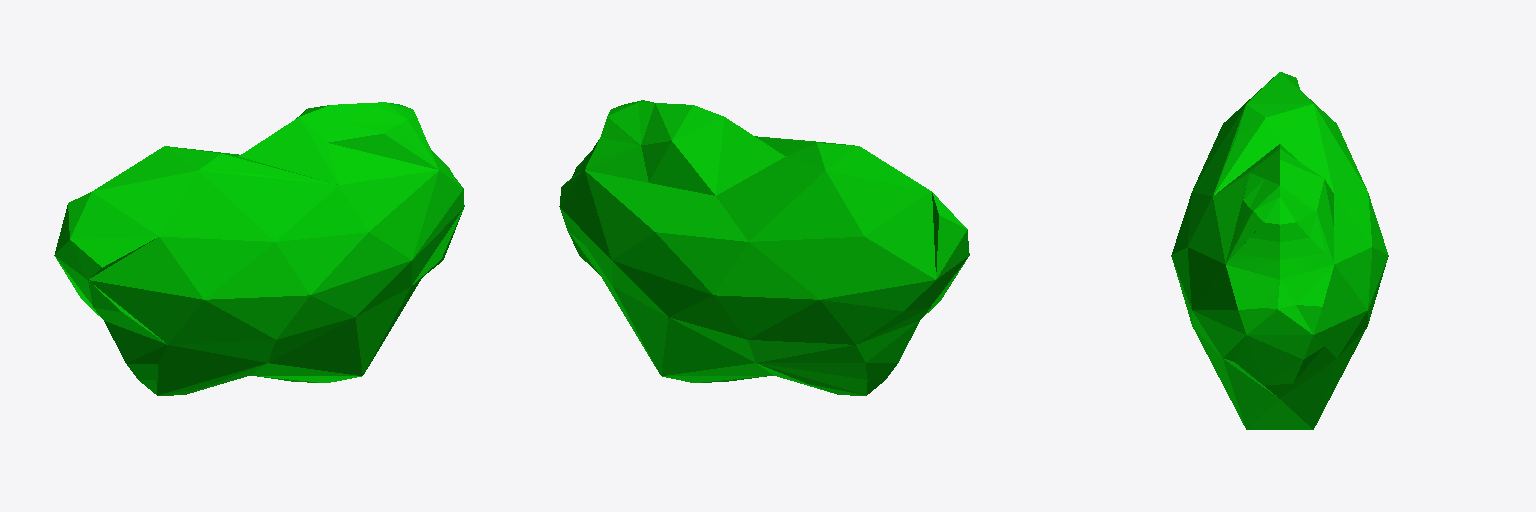
The model's file is irregular.obj.
3 views of the same model, side by side, from view 1: azimuth 30°, elevation 25°; view 2: azimuth 150°, elevation 25°; view 3: azimuth 270°, elevation 25° (orthographic).
Visible parts, largest first — view 1: Icosphere; view 2: Icosphere; view 3: Icosphere.
Part boxes in pixels (bbox=[...]): Icosphere: bbox=[54, 102, 464, 395]; Icosphere: bbox=[559, 100, 969, 395]; Icosphere: bbox=[1171, 72, 1388, 429].
Bounding box in the file's own units: 7.65 × 5.04 × 3.74.